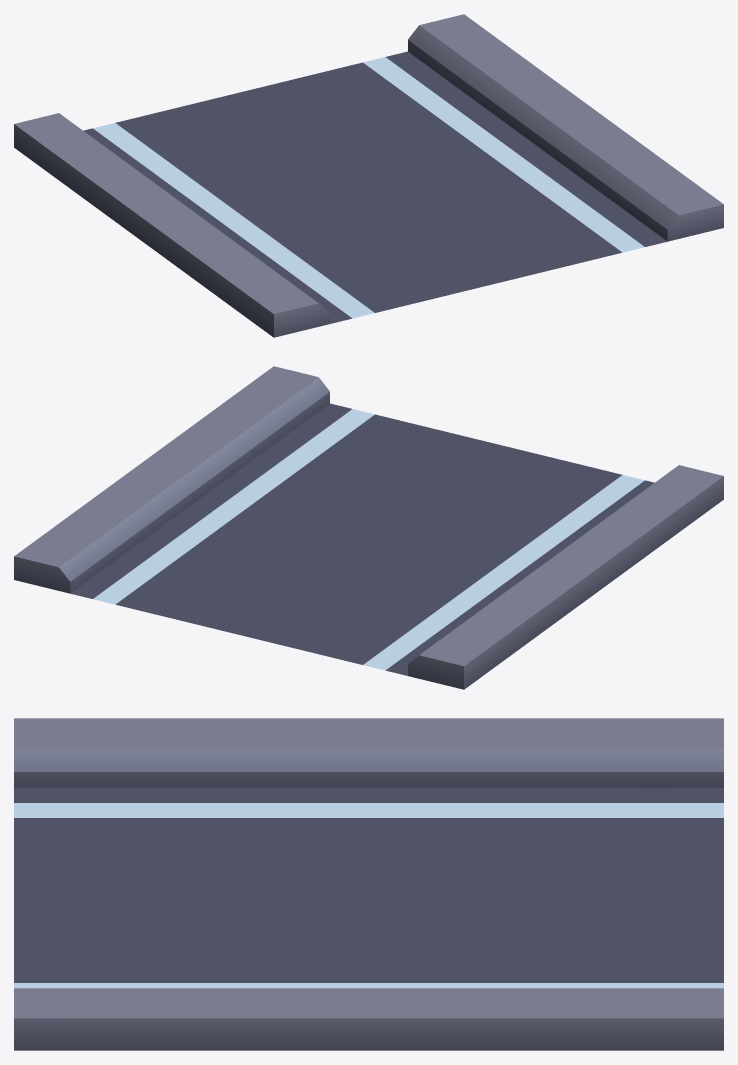
Rendered from road-straight.glb.
3 views of the same model, one above another, from view 1: azimuth 30°, elevation 25°; view 2: azimuth 150°, elevation 25°; view 3: azimuth 270°, elevation 25° (orthographic). The views are drawn at different scales.
Visible parts, largest first — view 1: road-straight; view 2: road-straight; view 3: road-straight.
Boxes of the visible parts, <box> form: road-straight: <box>14,14,723,337</box>; road-straight: <box>14,366,723,689</box>; road-straight: <box>14,718,723,1050</box>.
Size of the model in its own units: 1 by 0.05 by 1.
1 material, 1 textured.
